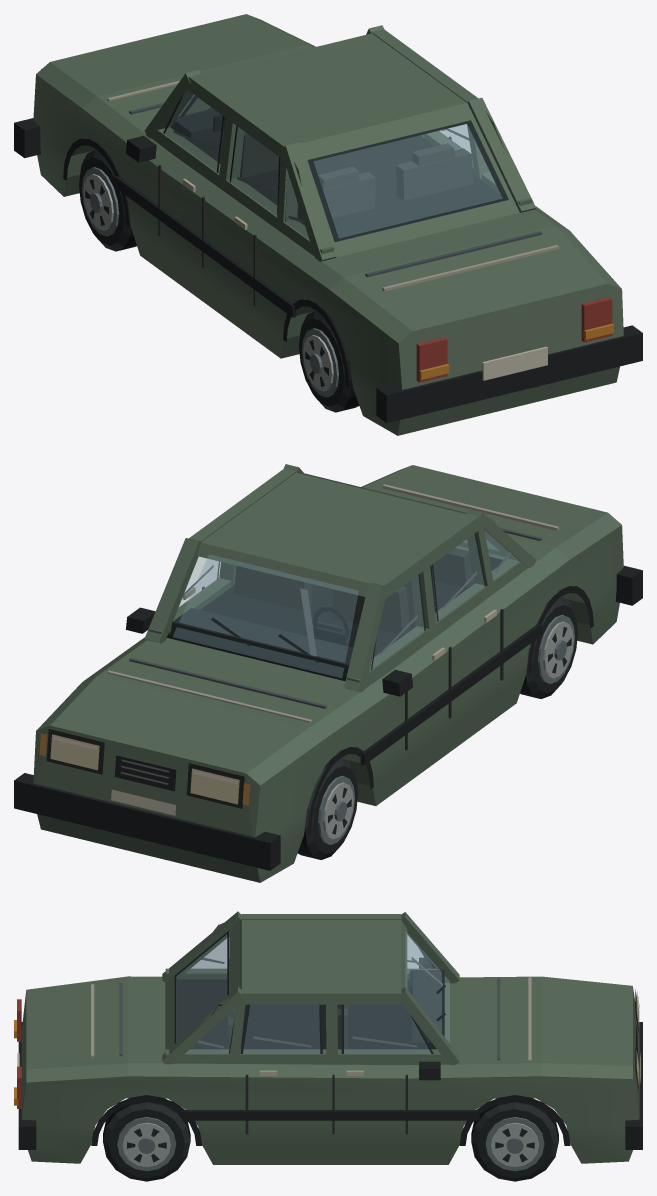
The model's file is berline_vert_sauge.glb.
The picture shows the model from 3 angles, top to bottom: view 1: azimuth 30°, elevation 25°; view 2: azimuth 150°, elevation 25°; view 3: azimuth 270°, elevation 25°; orthographic projection. The views are drawn at different scales.
Parts seen in each view (by area): view 1: proposition_berline_vert_sauge; view 2: proposition_berline_vert_sauge; view 3: proposition_berline_vert_sauge.
Part boxes in pixels (box(x1,y1,x2,y2)): proposition_berline_vert_sauge: box(14, 14, 642, 435); proposition_berline_vert_sauge: box(14, 464, 642, 882); proposition_berline_vert_sauge: box(14, 911, 642, 1181).
Bounding box in the file's own units: 1.96 × 1.5 × 4.65.
